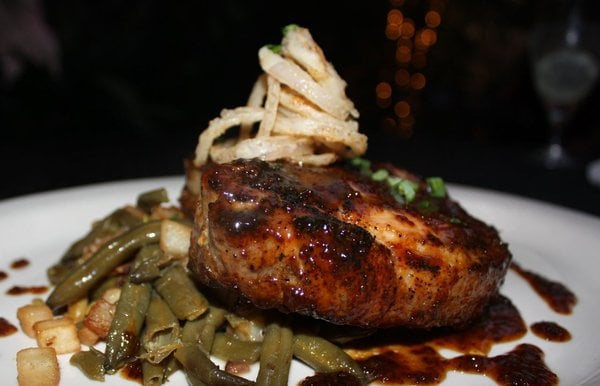sandwich: (526, 6, 600, 171)
